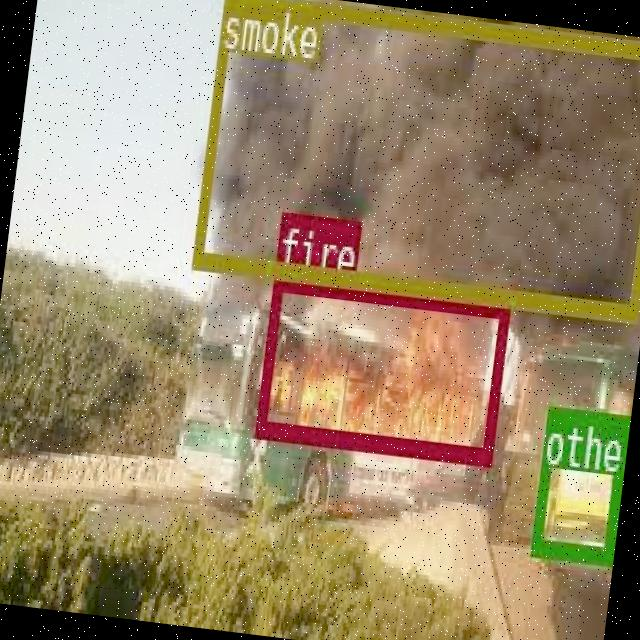fire: (254, 271, 508, 463)
smoke: (190, 0, 640, 319)
